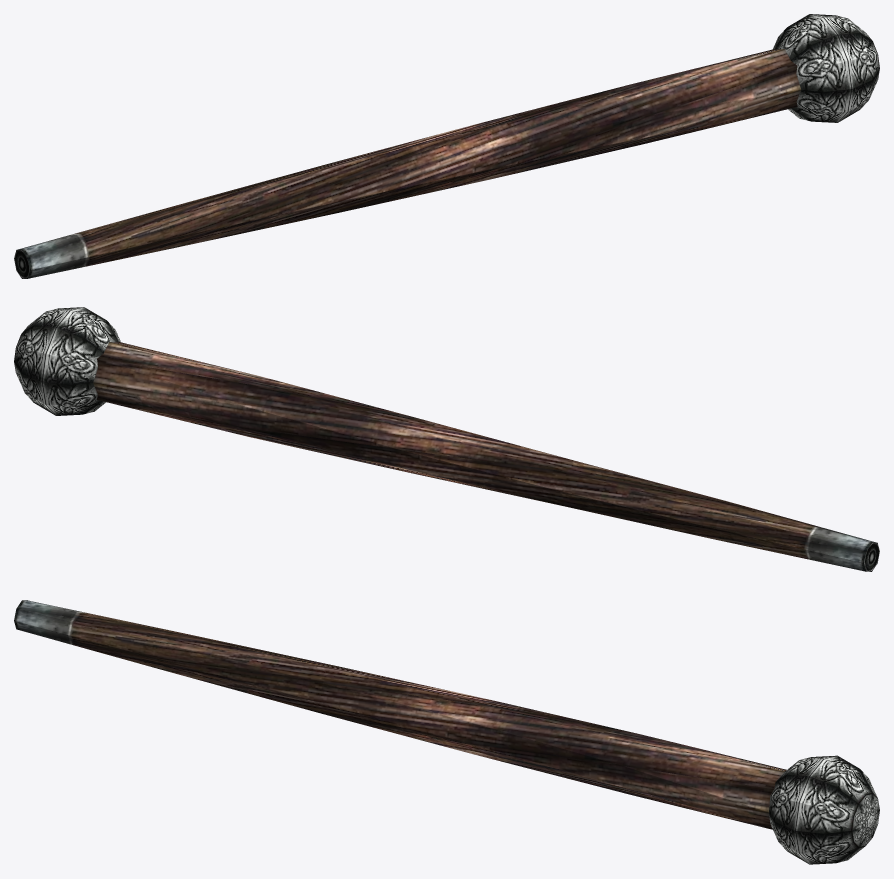
Rendered from ITMW_008_1H_POLE_01.glb.
3 views of the same model, one above another, from view 1: azimuth 30°, elevation 25°; view 2: azimuth 150°, elevation 25°; view 3: azimuth 330°, elevation 25° (orthographic).
Parts seen in each view (by area): view 1: ITMW_008_1H_POLE_01; view 2: ITMW_008_1H_POLE_01; view 3: ITMW_008_1H_POLE_01.
Boxes of the visible parts, x1,y1,x2,y2 form: ITMW_008_1H_POLE_01: (14,14,879,278); ITMW_008_1H_POLE_01: (14,307,879,571); ITMW_008_1H_POLE_01: (14,600,879,864).
Size of the model in its own units: 0.6103 by 0.07 by 0.07.
Materials: 1 (1 with a texture image).
